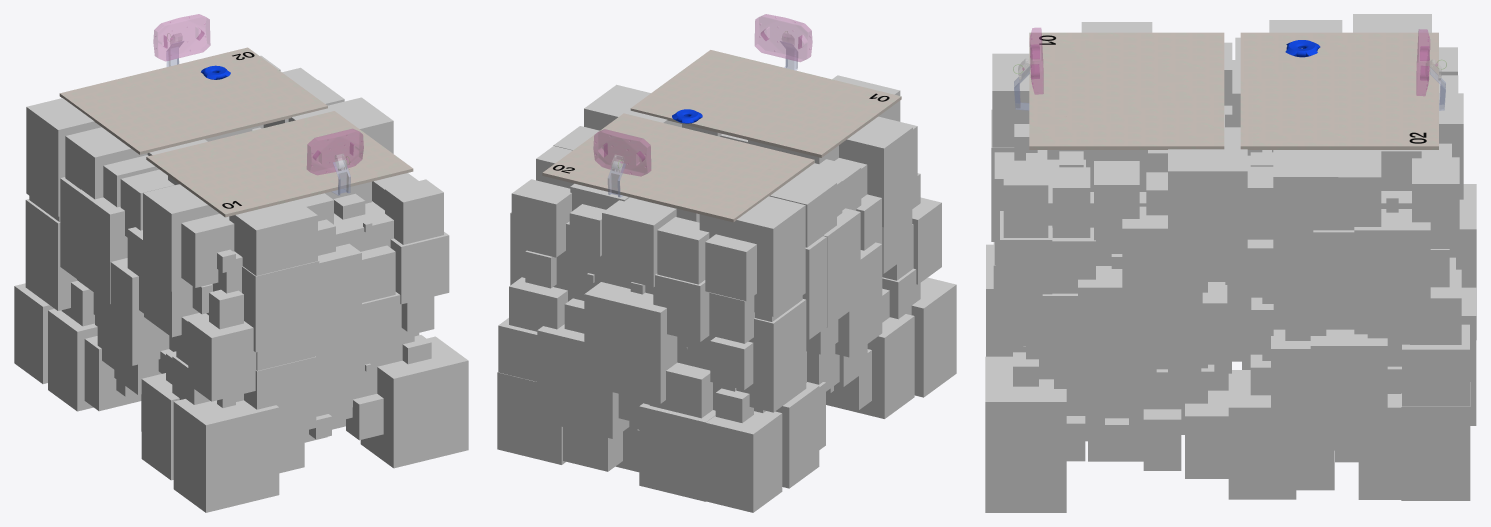
File: pongV0.1.glb
3 renders of one model, left to right at view 1: azimuth 30°, elevation 25°; view 2: azimuth 150°, elevation 25°; view 3: azimuth 270°, elevation 25°, orthographic. The views are drawn at different scales.
Parts seen in each view (by area): view 1: Plane.004, Plane.003, bakePadel, bakePadel.001; view 2: Plane.004, Plane.003, bakePadel.001, bakePadel; view 3: Plane.004, Plane.003, bakePadel, bakePadel.001.
Boxes of the visible parts, x1,y1,x2,y2 form: Plane.004: (14, 55, 468, 512); Plane.003: (59, 47, 413, 217); bakePadel: (307, 129, 363, 195); bakePadel.001: (153, 14, 210, 66); Plane.004: (497, 75, 956, 512); Plane.003: (542, 50, 901, 222); bakePadel.001: (593, 129, 650, 197); bakePadel: (755, 14, 812, 70); Plane.004: (985, 14, 1476, 512); Plane.003: (1029, 32, 1438, 149); bakePadel: (1013, 28, 1043, 110); bakePadel.001: (1416, 29, 1446, 110).
Size of the model in its own units: 13.79 by 16.42 by 18.01.
Materials: 5 (5 with a texture image).
